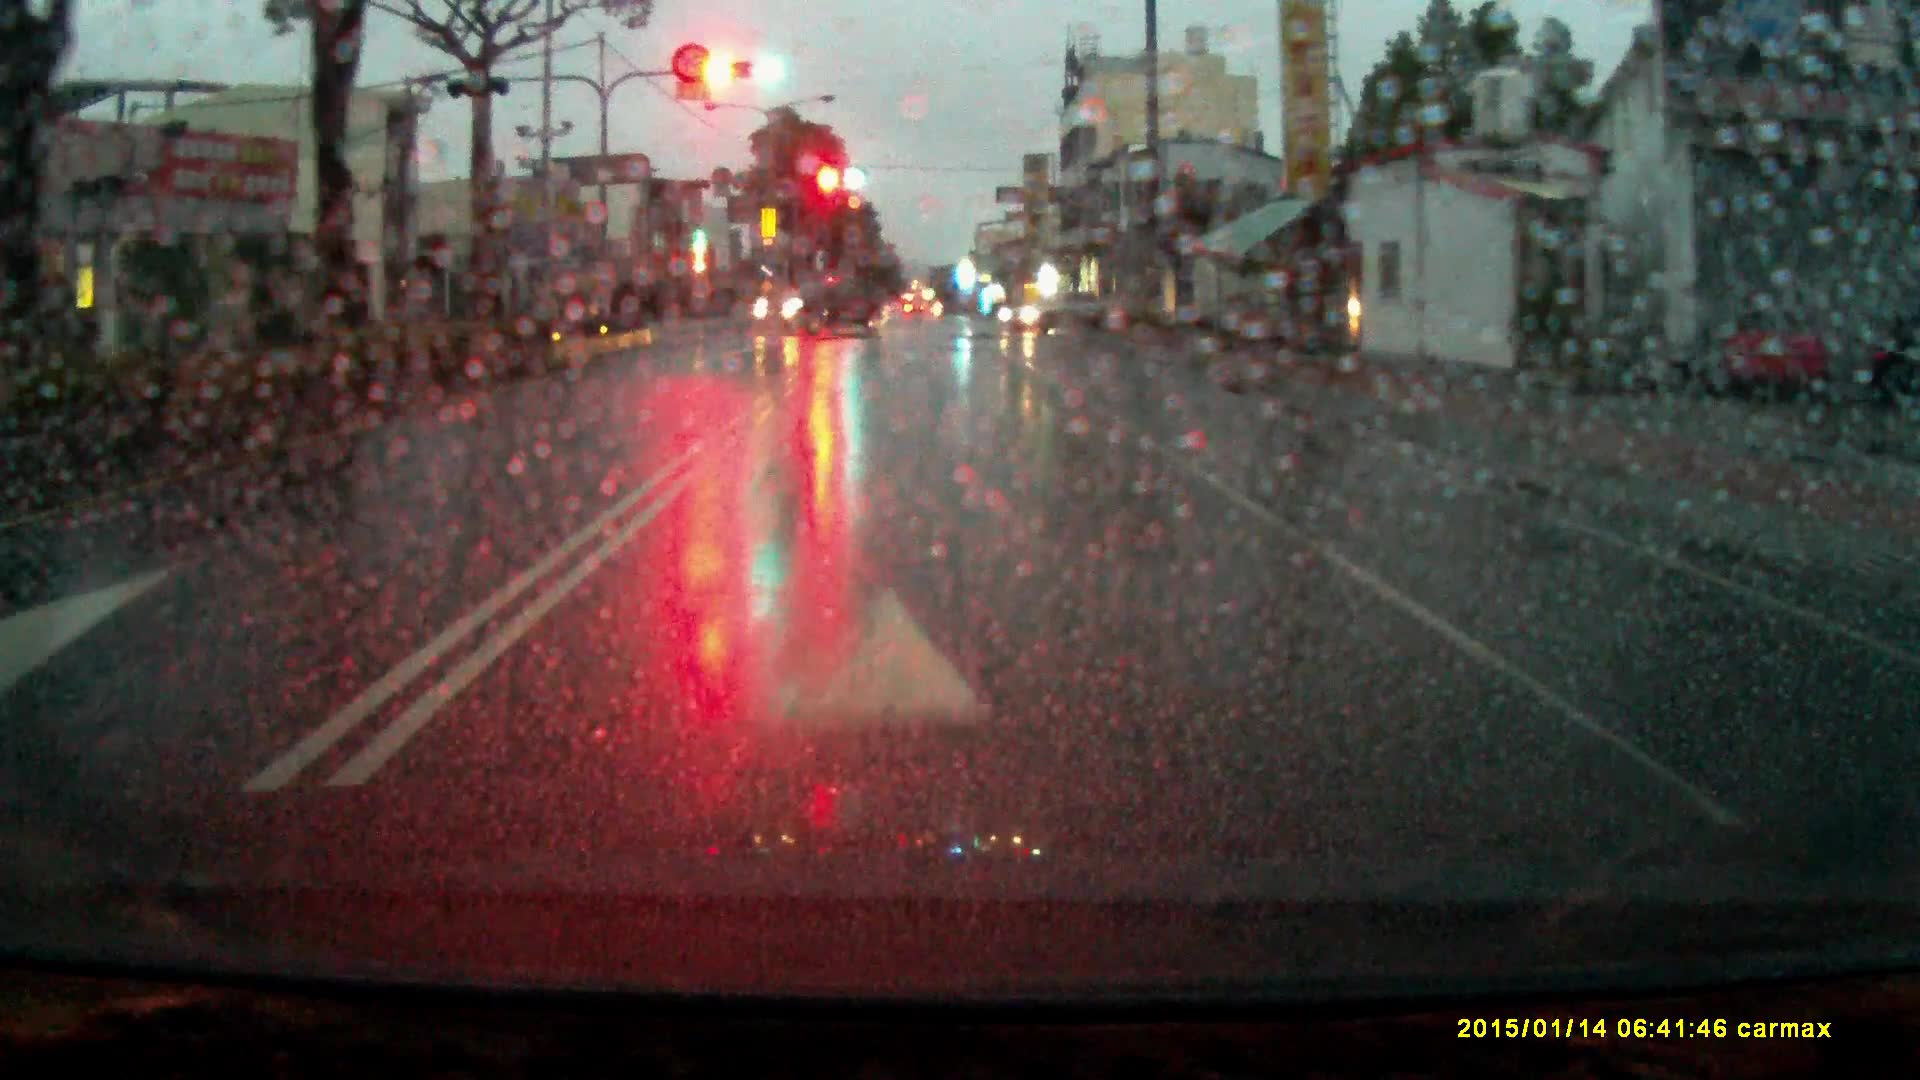vehicle: (750, 274, 893, 343), (1001, 294, 1120, 342)
